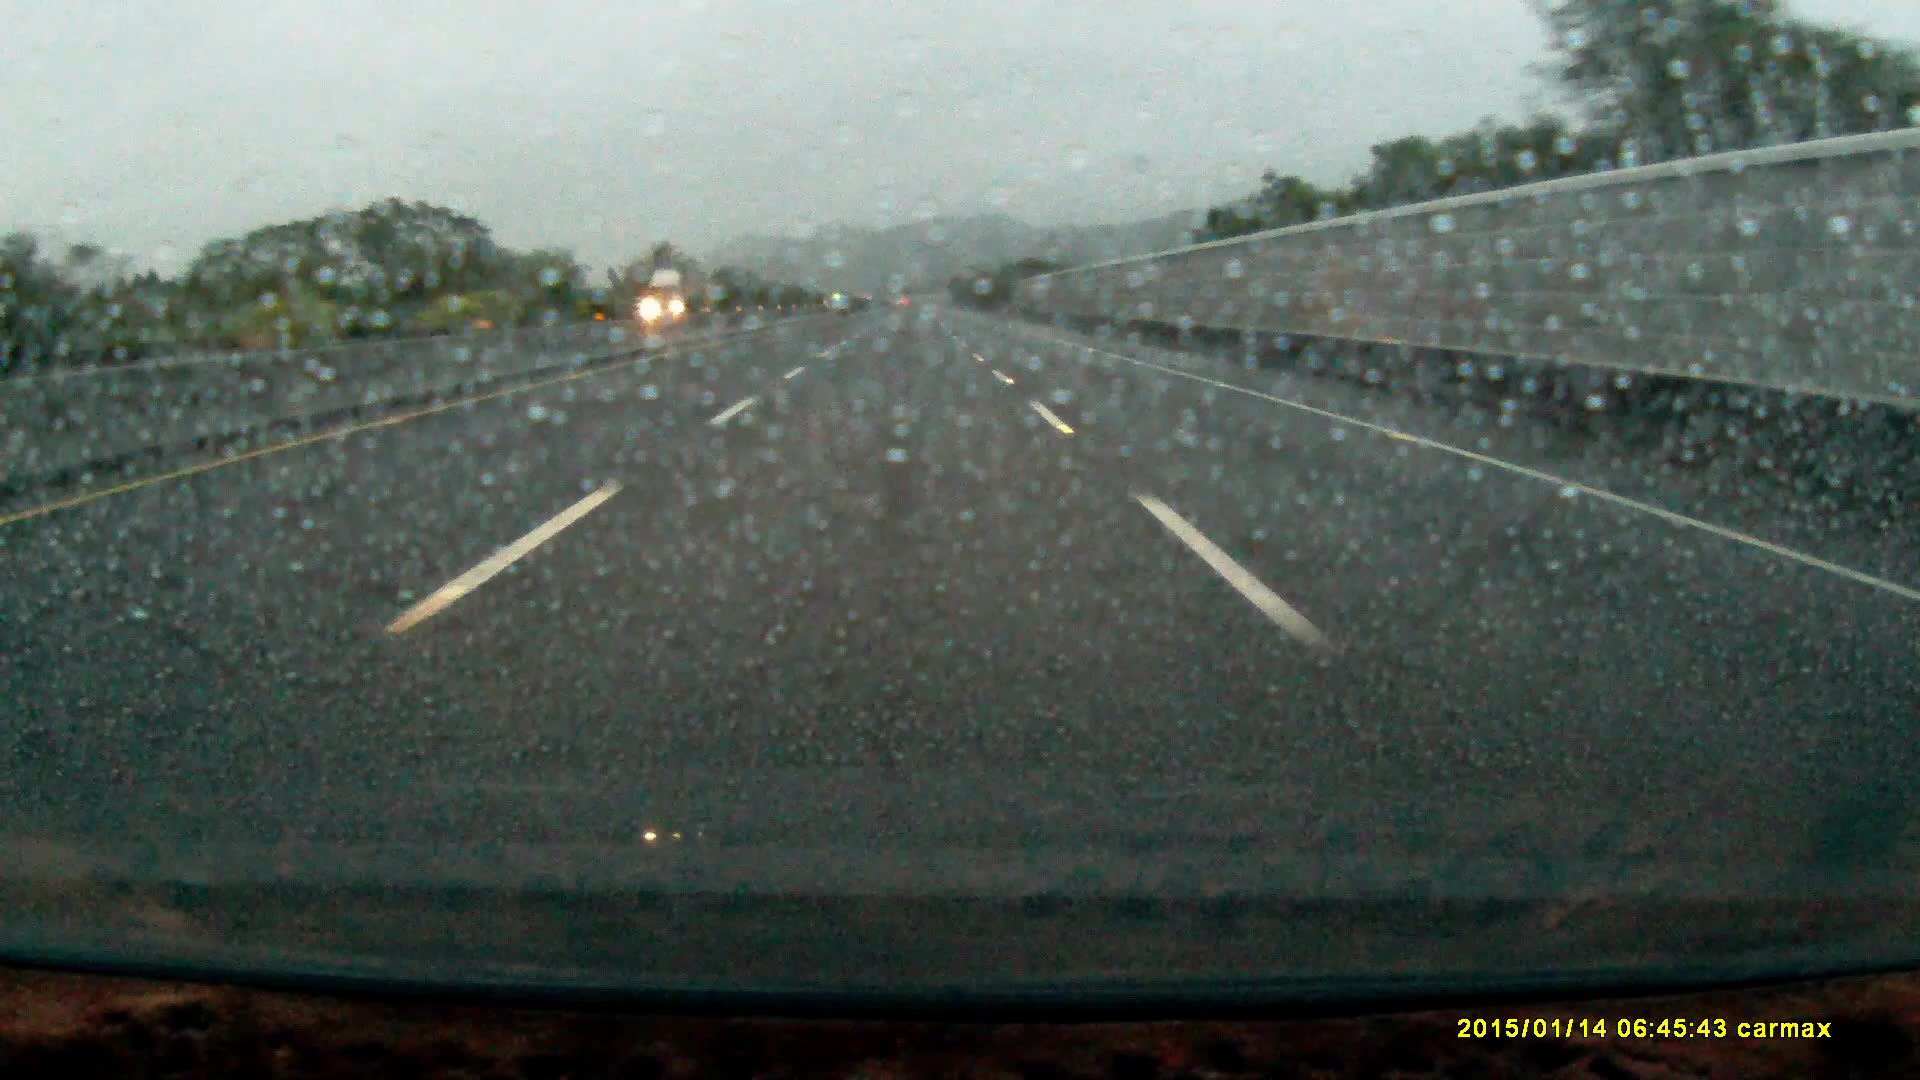vehicle: (641, 266, 709, 318)
